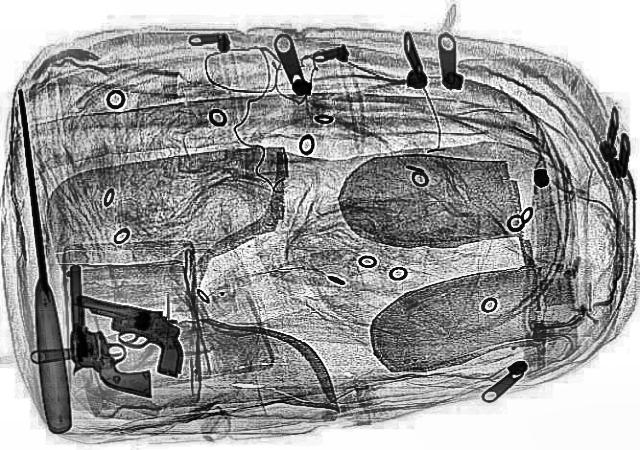Gun: (44, 291, 208, 377), (62, 264, 152, 398)
Knife: (3, 90, 73, 432)
